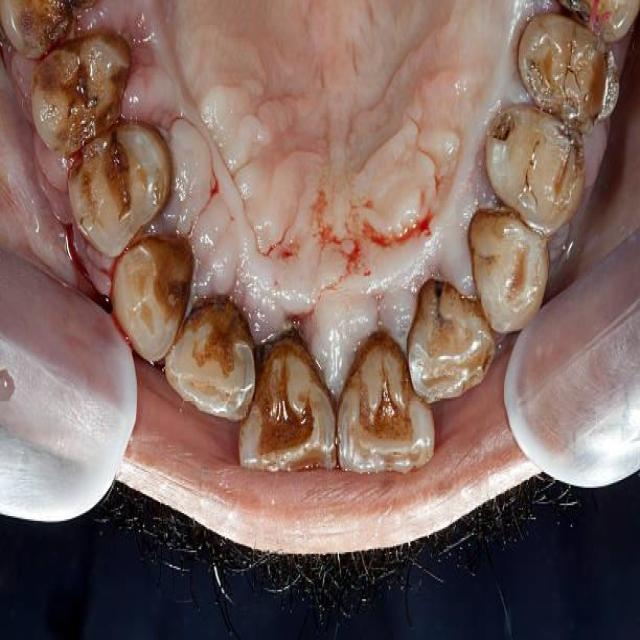caries: (29, 26, 133, 148), (491, 100, 585, 227), (516, 10, 624, 116), (65, 126, 143, 230), (418, 264, 472, 329)
